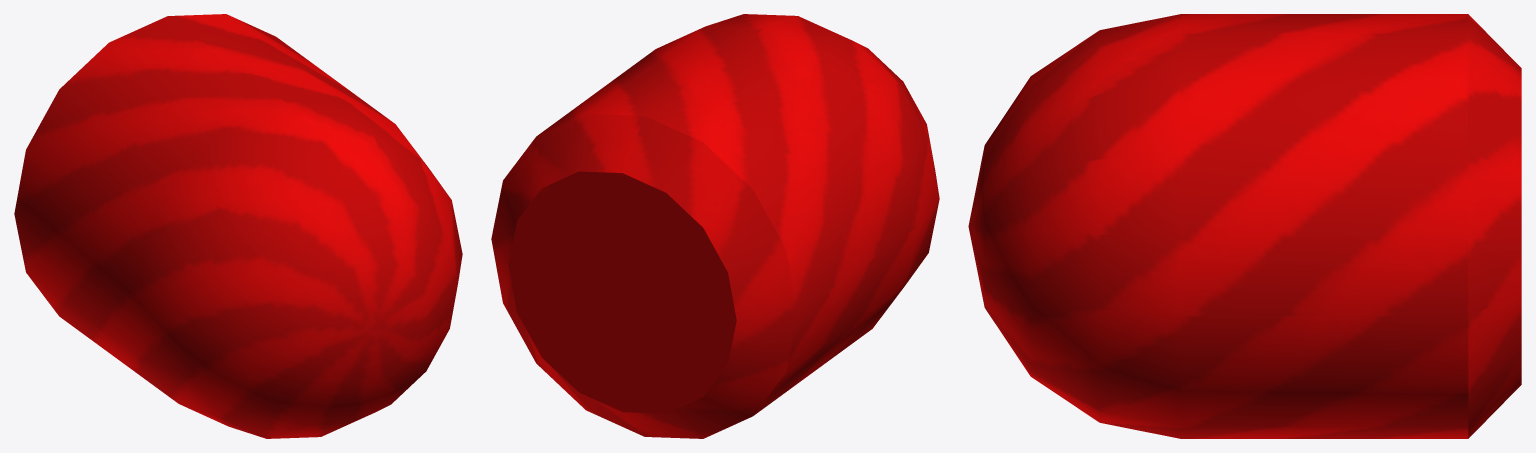
The model's file is micro_bullet.fbx.
3 renders of one model, left to right at view 1: azimuth 30°, elevation 25°; view 2: azimuth 150°, elevation 25°; view 3: azimuth 270°, elevation 25°, orthographic. The views are drawn at different scales.
Parts seen in each view (by area): view 1: Cube; view 2: Cube; view 3: Cube.
Part boxes in pixels (box(x1,y1,x2,y2)): Cube: box(14, 14, 462, 438); Cube: box(491, 14, 939, 438); Cube: box(968, 14, 1521, 438).
Size of the model in its own units: 2 by 2 by 2.6.
